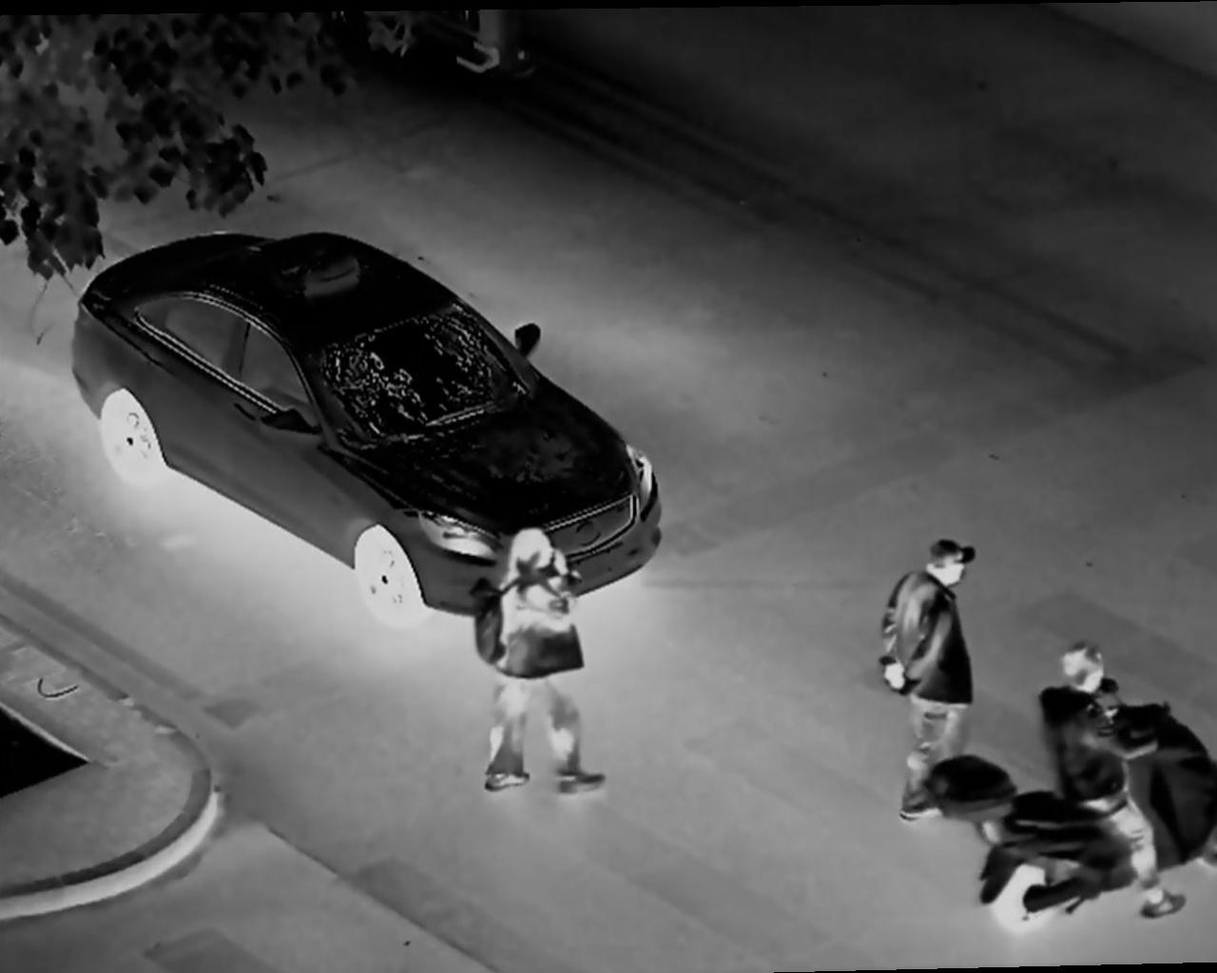person: (1033, 645, 1193, 914), (473, 529, 610, 794), (881, 542, 988, 811)
